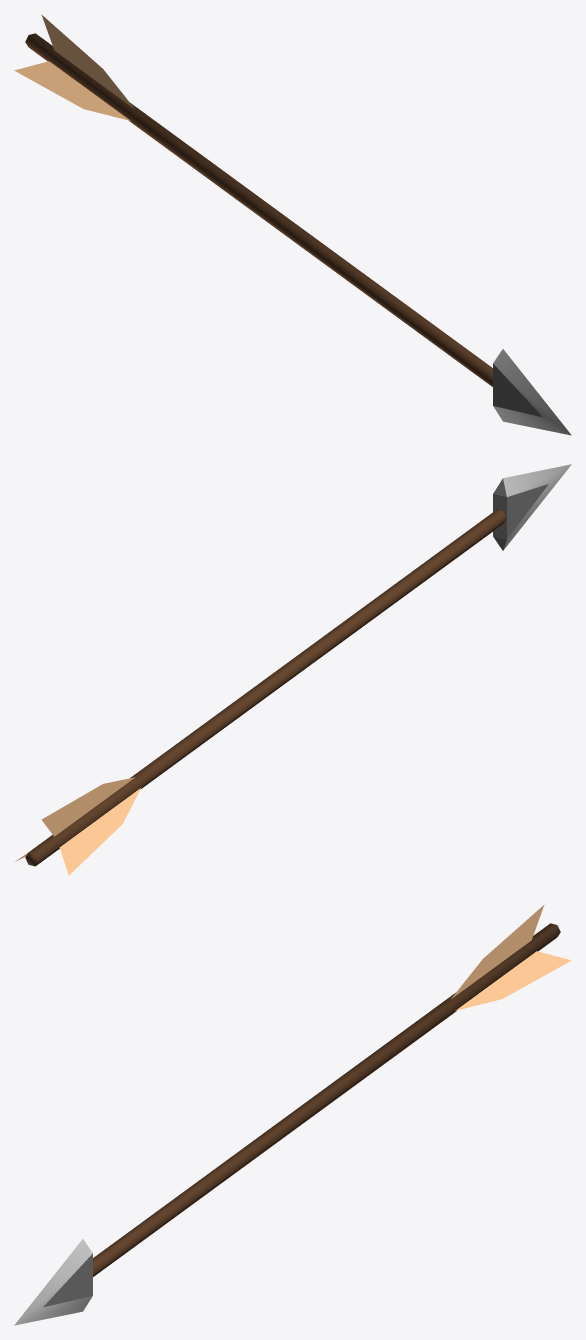
Rendered from Arrow_LOD1.fbx.
3 renders of one model, top to bottom at view 1: azimuth 30°, elevation 25°; view 2: azimuth 150°, elevation 25°; view 3: azimuth 330°, elevation 25°, orthographic.
Parts seen in each view (by area): view 1: Arrow_LOD1; view 2: Arrow_LOD1; view 3: Arrow_LOD1.
Part boxes in pixels (box(x1,y1,x2,y2)): Arrow_LOD1: box(14, 14, 571, 435); Arrow_LOD1: box(15, 464, 571, 875); Arrow_LOD1: box(14, 904, 571, 1325).
Bounding box in the file's own units: 5.99 × 7.62 × 102.
